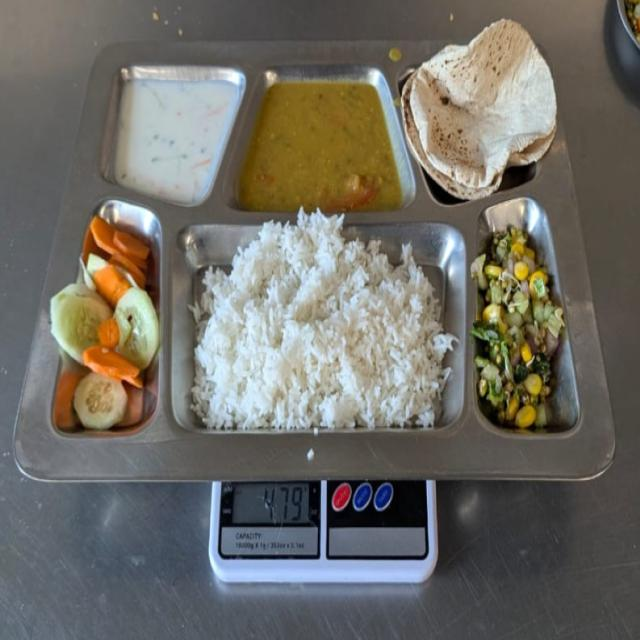Chaat: (472, 222, 566, 431)
Chapati: (404, 15, 558, 202)
Dal: (242, 75, 404, 216)
Raita: (114, 75, 238, 205)
Salad: (52, 218, 161, 436)
White Rice: (186, 217, 454, 431)
